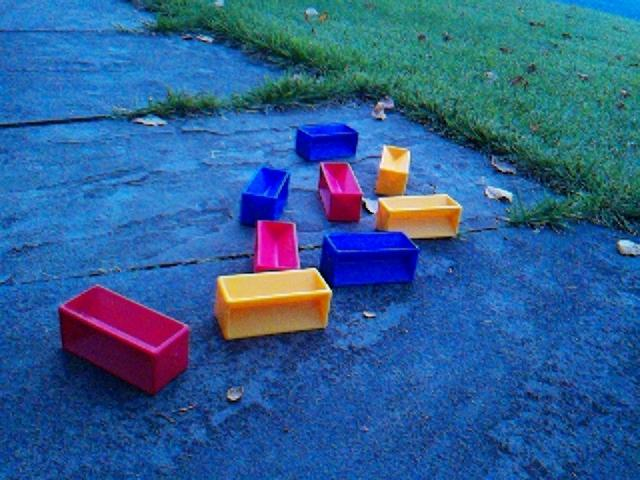blue: (319, 228, 421, 288), (239, 165, 291, 226), (294, 121, 360, 162)
red: (57, 283, 191, 396), (317, 160, 364, 223), (253, 218, 301, 273)
yellow: (214, 266, 334, 341), (375, 193, 463, 240), (374, 144, 412, 196)
